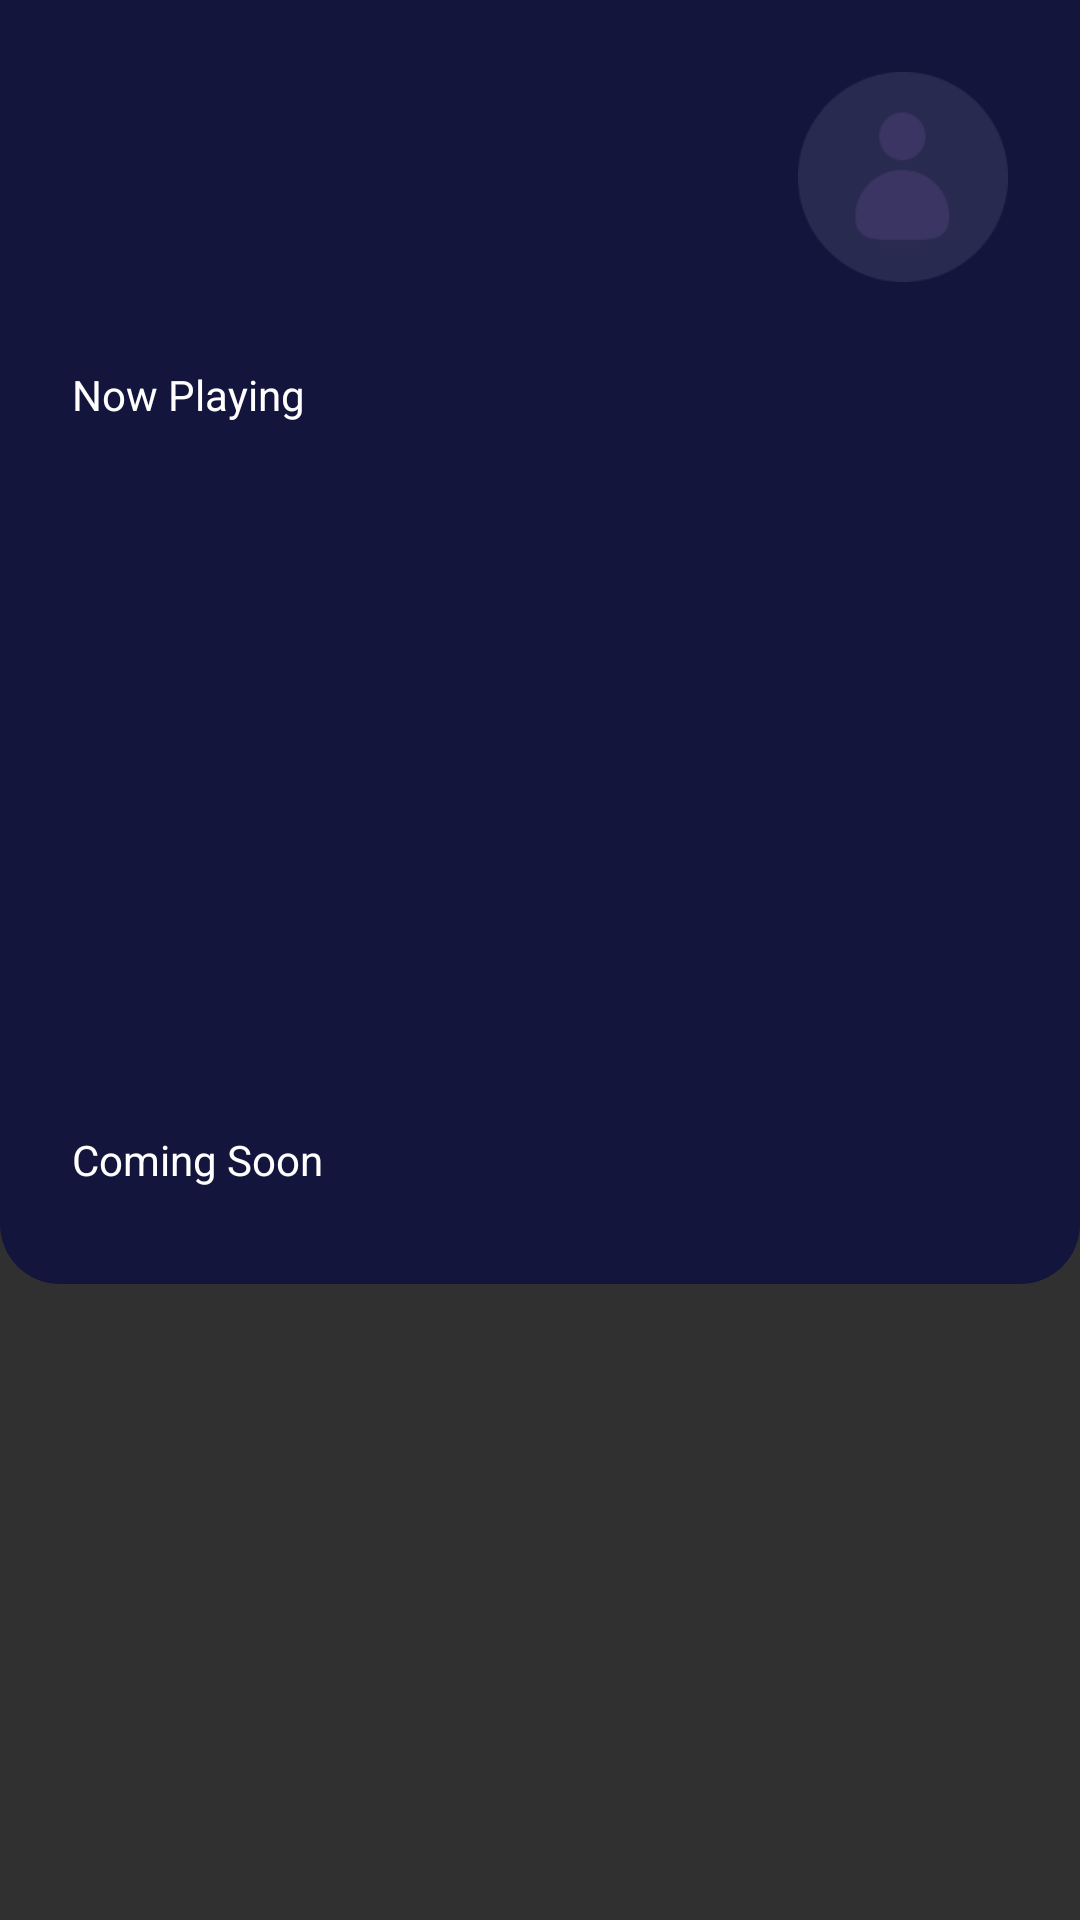

Named icons in this screenshot (1080x1920) and their centers, (x=x, y=y):
user: (x=902, y=176)
